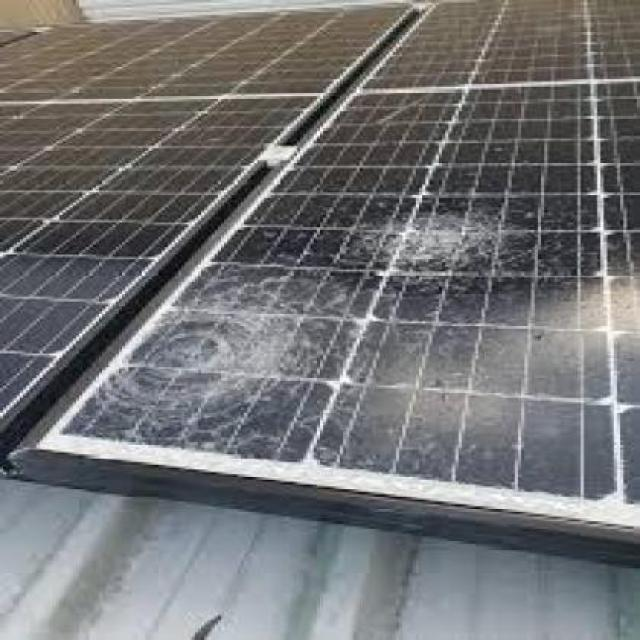cracked: (58, 97, 640, 500)
